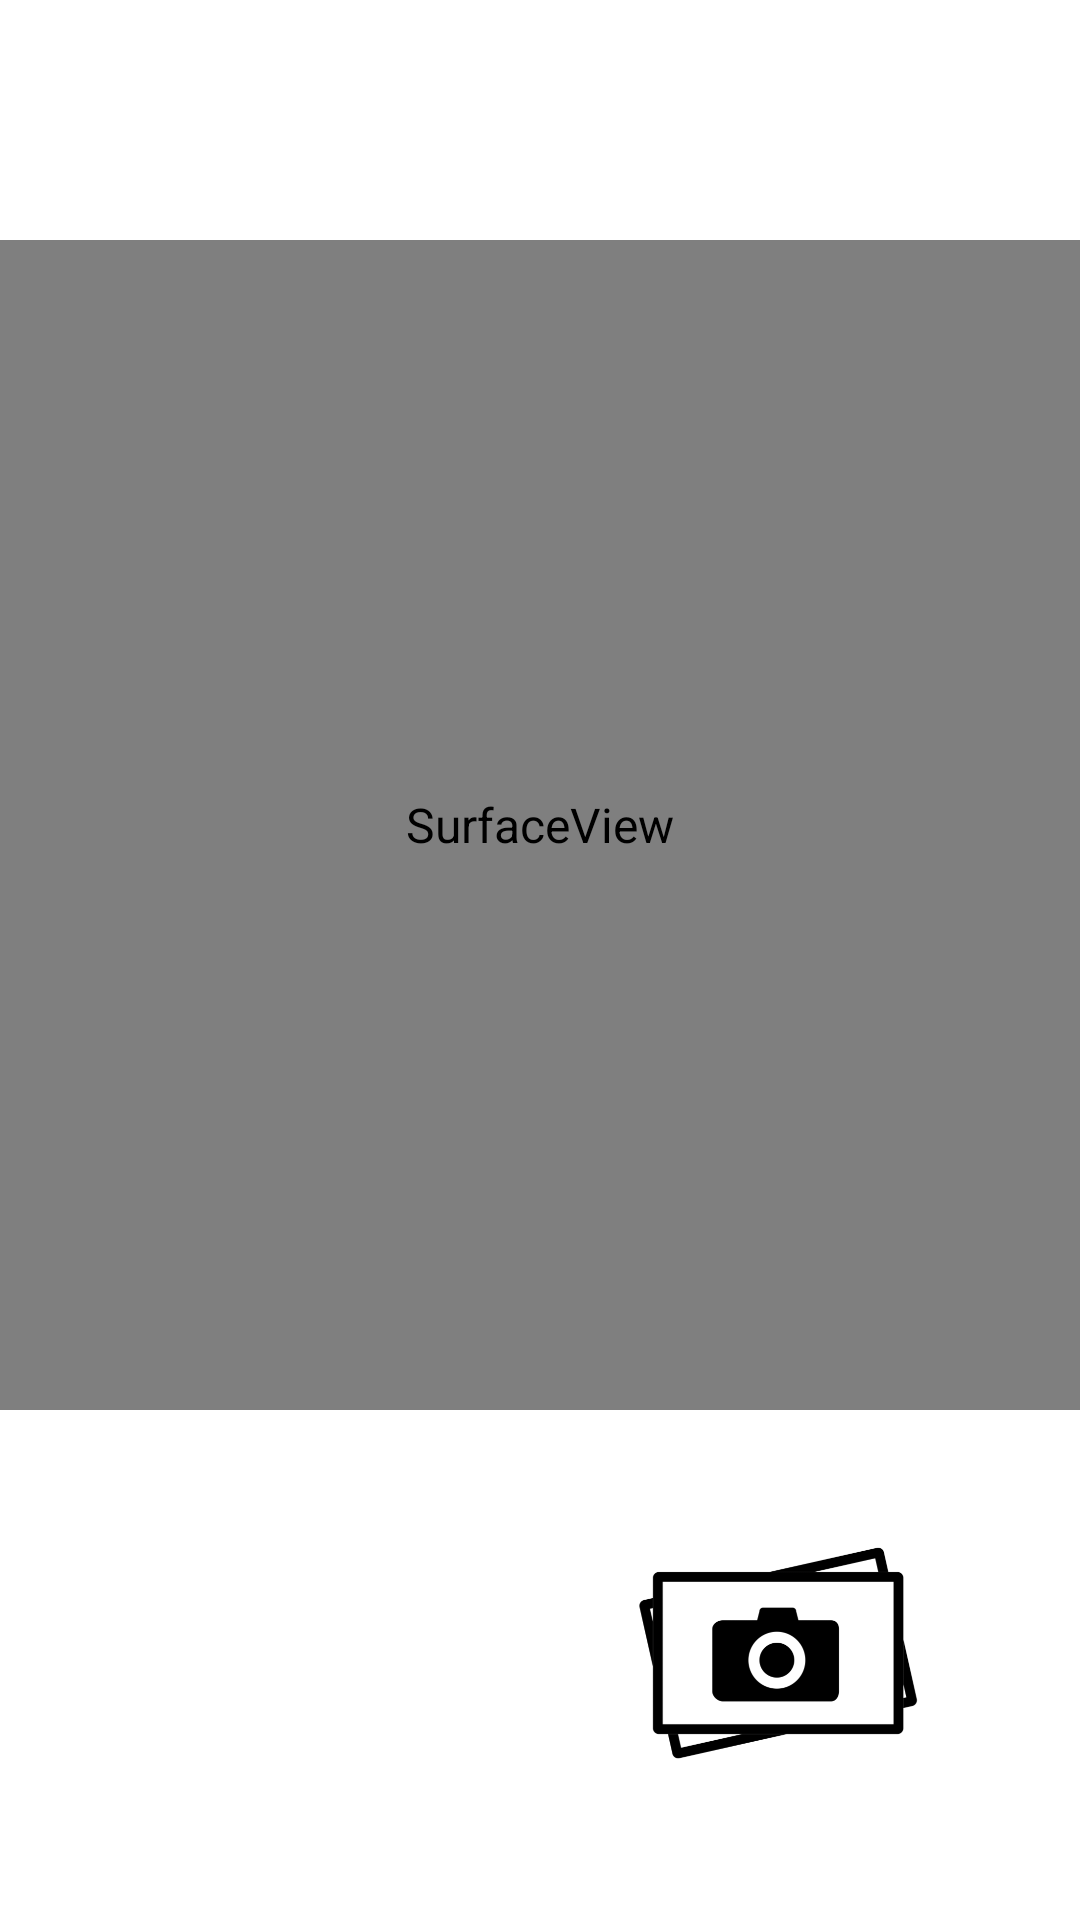

Locate icon controls on the screen. Image size 1080*1920, boxes as (x1, y1, x2, y2).
gallery: (639, 1548, 917, 1759)
